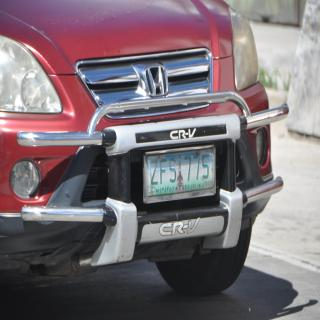license: (145, 146, 217, 204)
